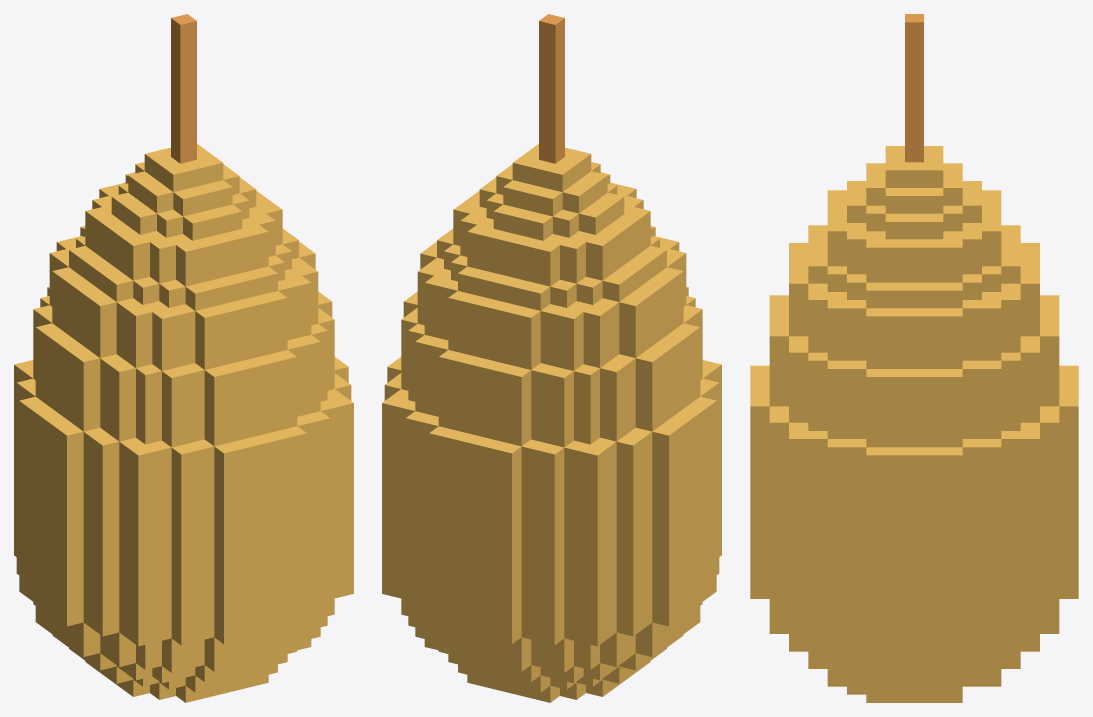
The model's file is amerikannddoku1.fbx.
The picture shows the model from 3 angles, left to right: view 1: azimuth 30°, elevation 25°; view 2: azimuth 150°, elevation 25°; view 3: azimuth 270°, elevation 25°; orthographic projection.
Parts seen in each view (by area): view 1: ObjObject.002; view 2: ObjObject.002; view 3: ObjObject.002.
Boxes of the visible parts, bbox=[...] form: ObjObject.002: bbox=[14, 14, 353, 702]; ObjObject.002: bbox=[382, 14, 721, 702]; ObjObject.002: bbox=[750, 14, 1078, 702].
Bounding box in the file's own units: 170 × 370 × 170.
